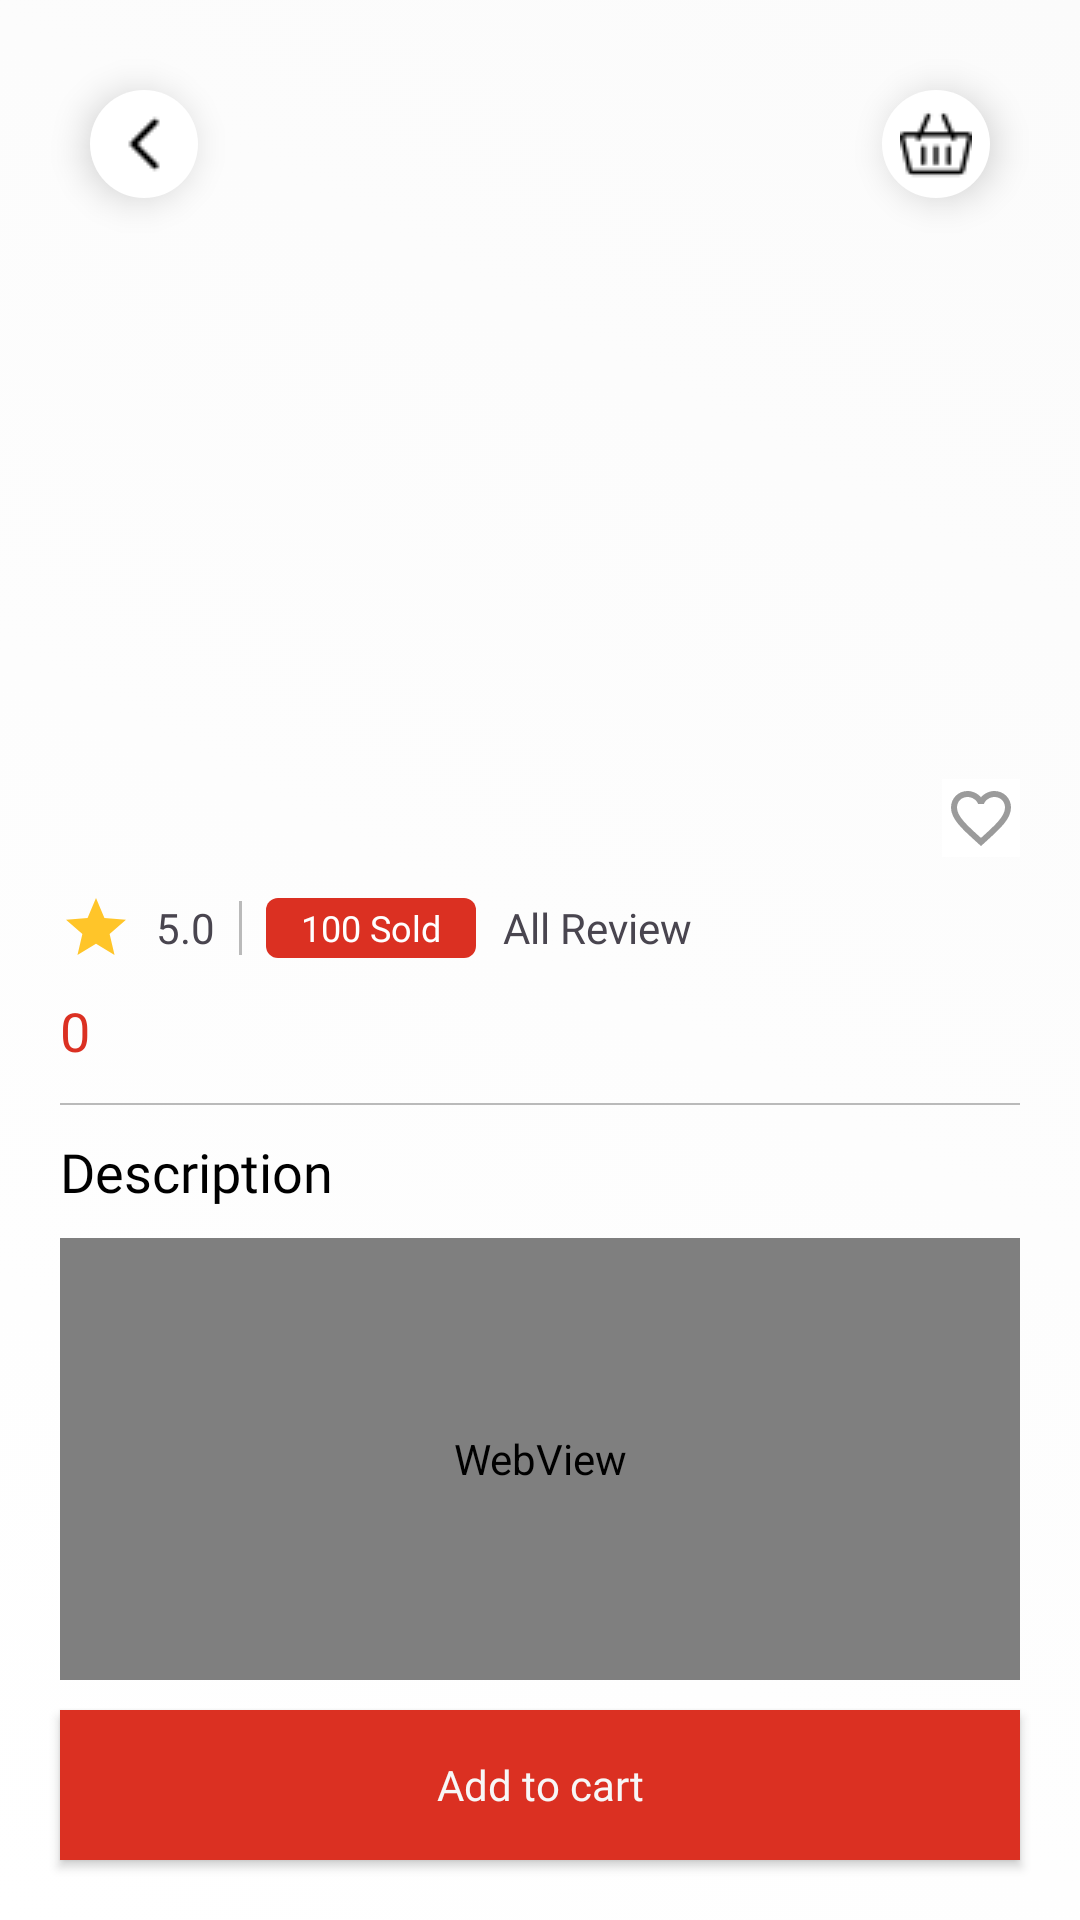

Icon bounding boxes for this 1080px×1920px phone screenshot, format BBox(x1, y1, x2, y2):
back: BBox(128, 117, 160, 171)
cart: BBox(900, 113, 972, 176)
fav: BBox(951, 791, 1011, 846)
star: BBox(66, 898, 126, 955)
